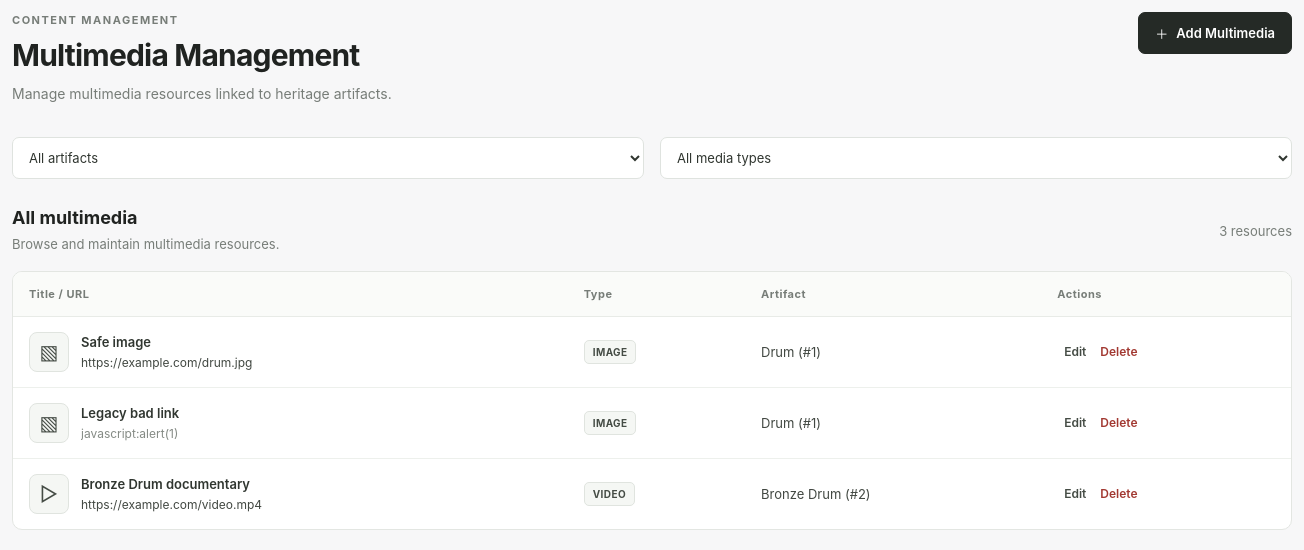
MultimediaPage — CRUD and filters › requests the artifact filter and applies the media-type filter client-side
Expected: the text "Safe image" is shown, [81,334,151,350]
Select "Bronze Drum" in the dropdown named "filter by artifact" at {"x": 328, "y": 158}, box [12,137,644,179]
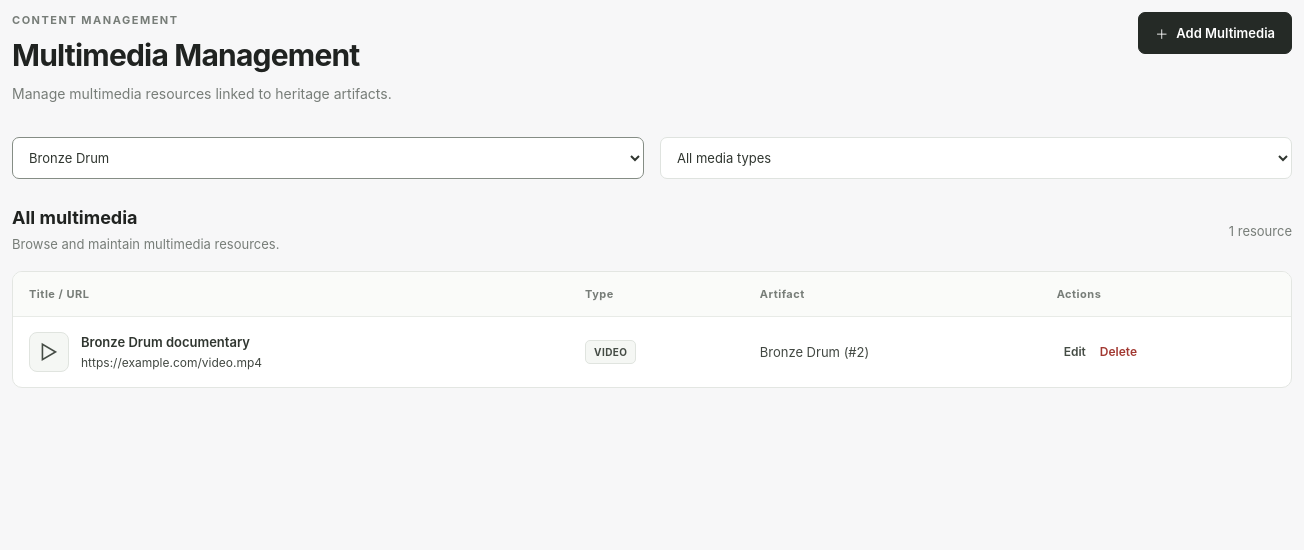
Expected: the text "Bronze Drum documentary" is shown, [81,334,262,350]
Expected: the text "Safe image" is gone
Select "Videos" in the dropdown named "filter by media type" at {"x": 976, "y": 158}, box [660,137,1292,179]
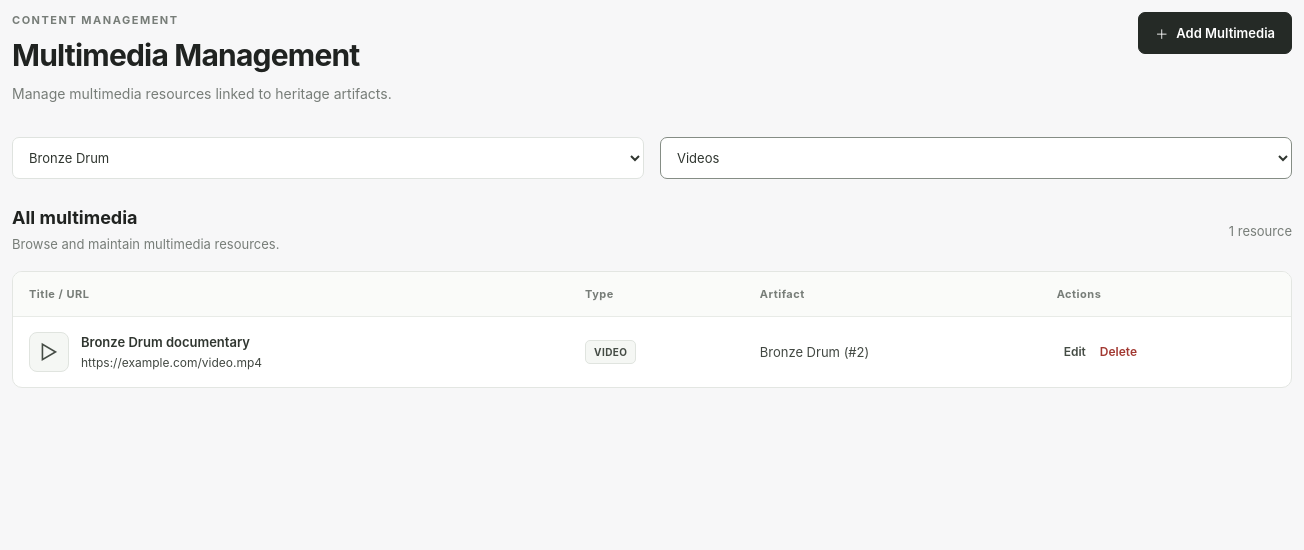
Expected: the text "Bronze Drum documentary" is shown, [81,334,262,350]
Expected: the text "1 resource" is shown, [1229,223,1292,239]
Select "Audio" in the dropdown named "filter by media type" at {"x": 976, "y": 158}, box [660,137,1292,179]
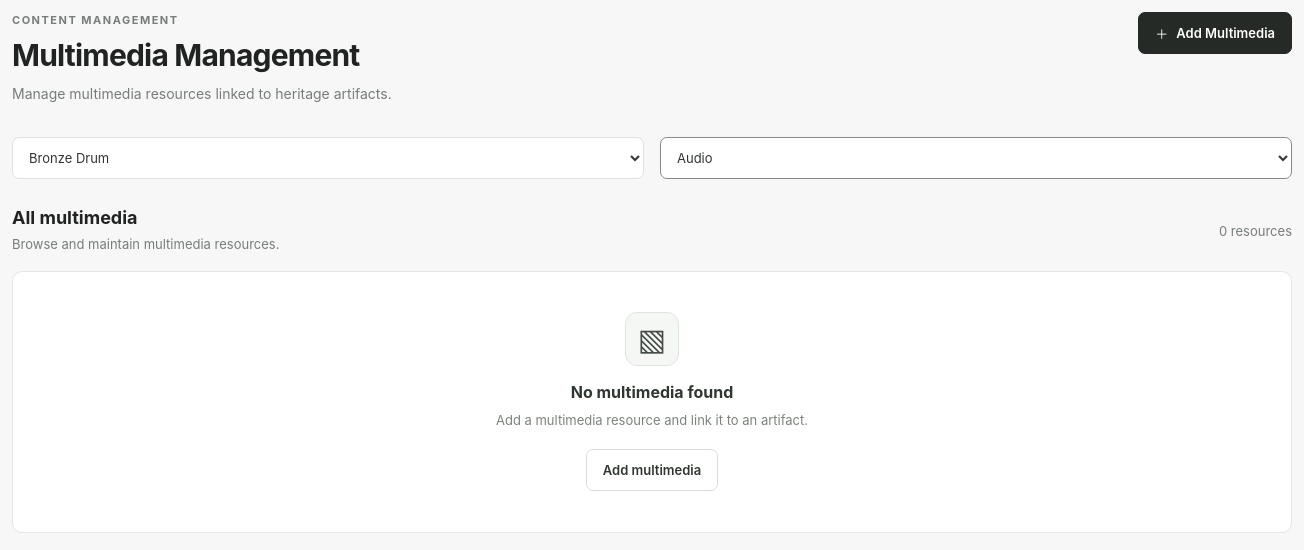
Expected: the heading "No multimedia found" is shown, [571,382,733,402]
